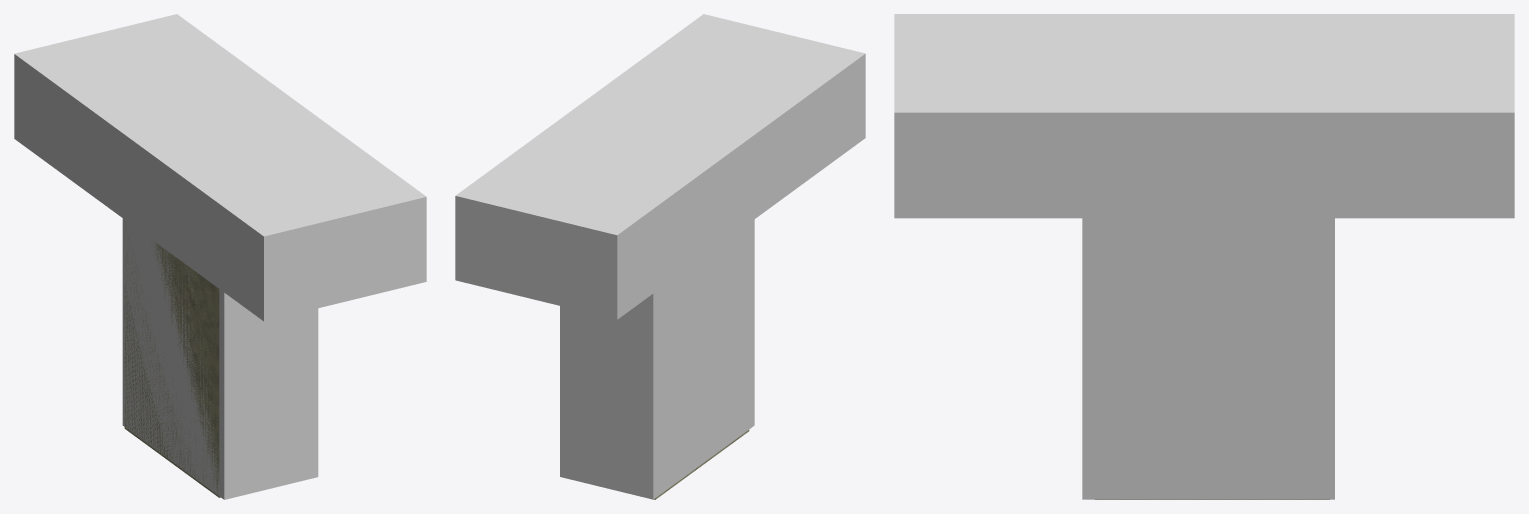
File: Normal.gltf
3 views of the same model, side by side, from view 1: azimuth 30°, elevation 25°; view 2: azimuth 150°, elevation 25°; view 3: azimuth 270°, elevation 25° (orthographic). The views are drawn at different scales.
Visible parts, largest first — view 1: COL, Cube; view 2: COL; view 3: COL.
Part boxes in pixels (x1,y1,x2,y2): COL: [14, 14, 426, 499]; Cube: [124, 221, 220, 497]; COL: [455, 14, 865, 499]; COL: [894, 14, 1514, 499].
Size of the model in its own units: 1.89 by 3.64 by 5.01.
1 material, 1 textured.
